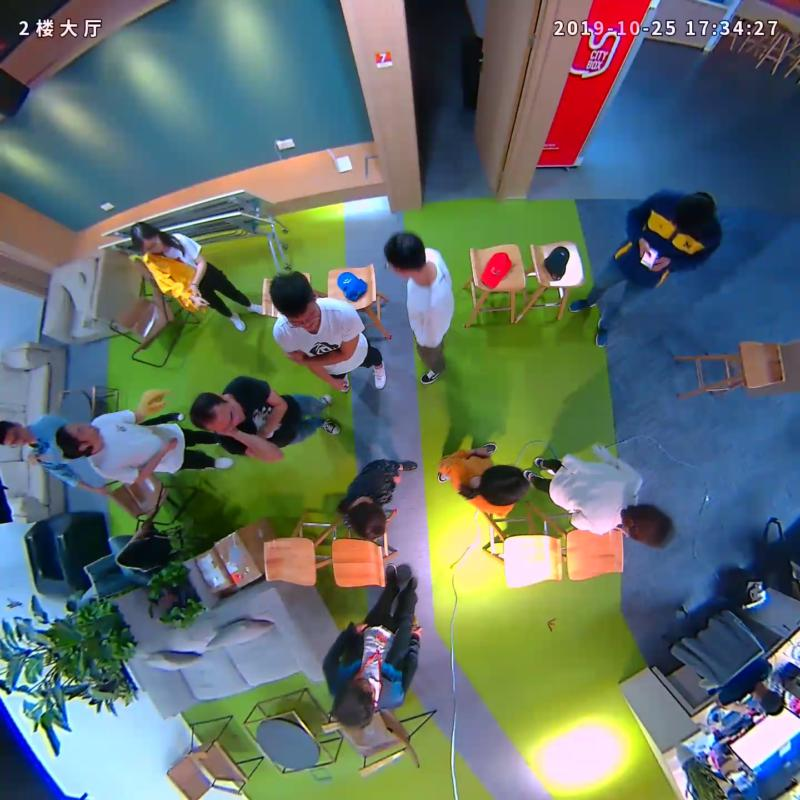head: (268, 272, 319, 332), (622, 504, 674, 550), (190, 392, 245, 434), (479, 464, 529, 507), (384, 232, 426, 283), (334, 676, 375, 727), (671, 191, 715, 235), (55, 423, 101, 460), (350, 499, 386, 541), (129, 223, 164, 256), (1, 421, 31, 448)
